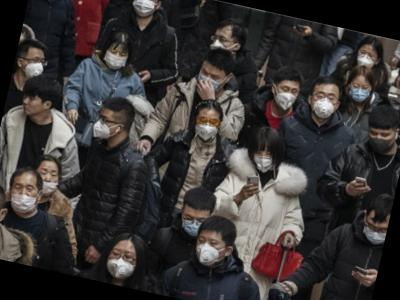mask_weared_incorrect: (33, 164, 62, 201)
with_mask: (7, 178, 42, 219), (191, 233, 227, 271), (103, 244, 138, 282), (176, 208, 210, 242), (193, 65, 226, 98), (191, 111, 222, 144), (309, 87, 339, 121), (272, 81, 302, 113), (366, 127, 398, 157), (359, 216, 389, 247), (20, 51, 48, 83), (89, 109, 117, 141), (101, 45, 130, 74), (206, 30, 236, 57), (251, 145, 278, 175), (356, 46, 378, 72)
without_mask: (18, 89, 43, 119)
